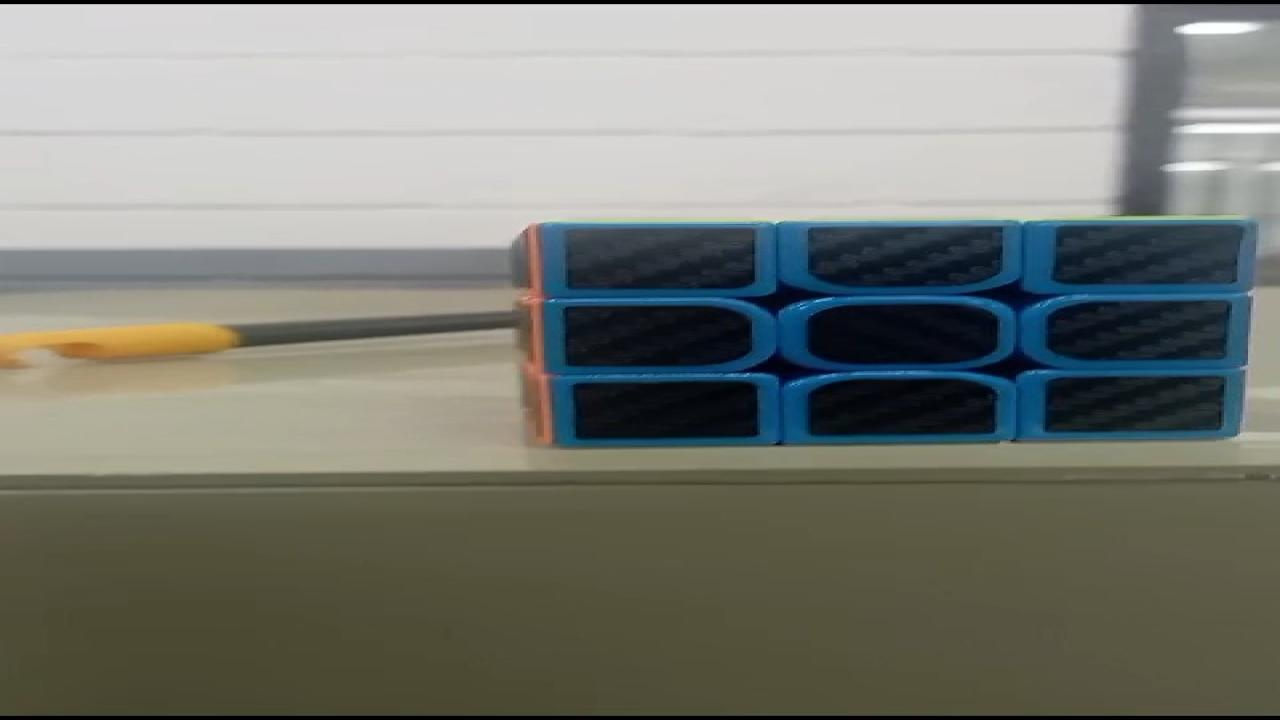Cube: (506, 214, 1258, 448)
